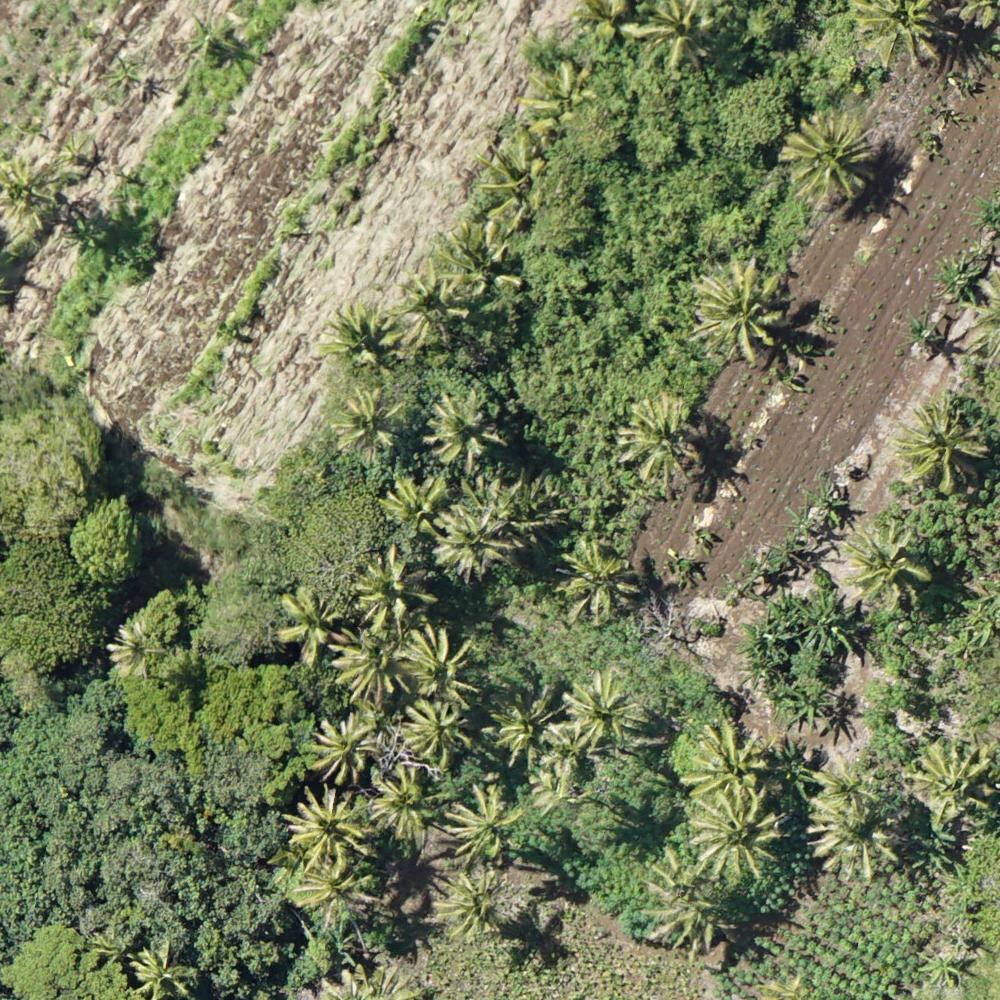Palm: (779, 112, 874, 208), (811, 771, 897, 877), (691, 786, 781, 882), (691, 261, 778, 358), (835, 524, 932, 611), (893, 401, 986, 490), (617, 401, 702, 490), (682, 718, 769, 798), (631, 1, 718, 78), (399, 625, 481, 706), (916, 741, 995, 825), (435, 869, 519, 948), (353, 547, 435, 627), (561, 668, 641, 748), (558, 541, 635, 623), (426, 386, 505, 465), (332, 630, 414, 706), (442, 781, 520, 860), (297, 860, 380, 931), (286, 788, 363, 864), (398, 266, 471, 343), (647, 863, 724, 935), (370, 769, 448, 840), (436, 505, 511, 578), (325, 305, 402, 376), (490, 686, 564, 758), (329, 388, 403, 460), (1, 159, 65, 235), (376, 472, 452, 535), (396, 699, 470, 762), (268, 590, 334, 660), (304, 715, 373, 781), (125, 944, 196, 996), (102, 625, 159, 682), (534, 762, 586, 812)
